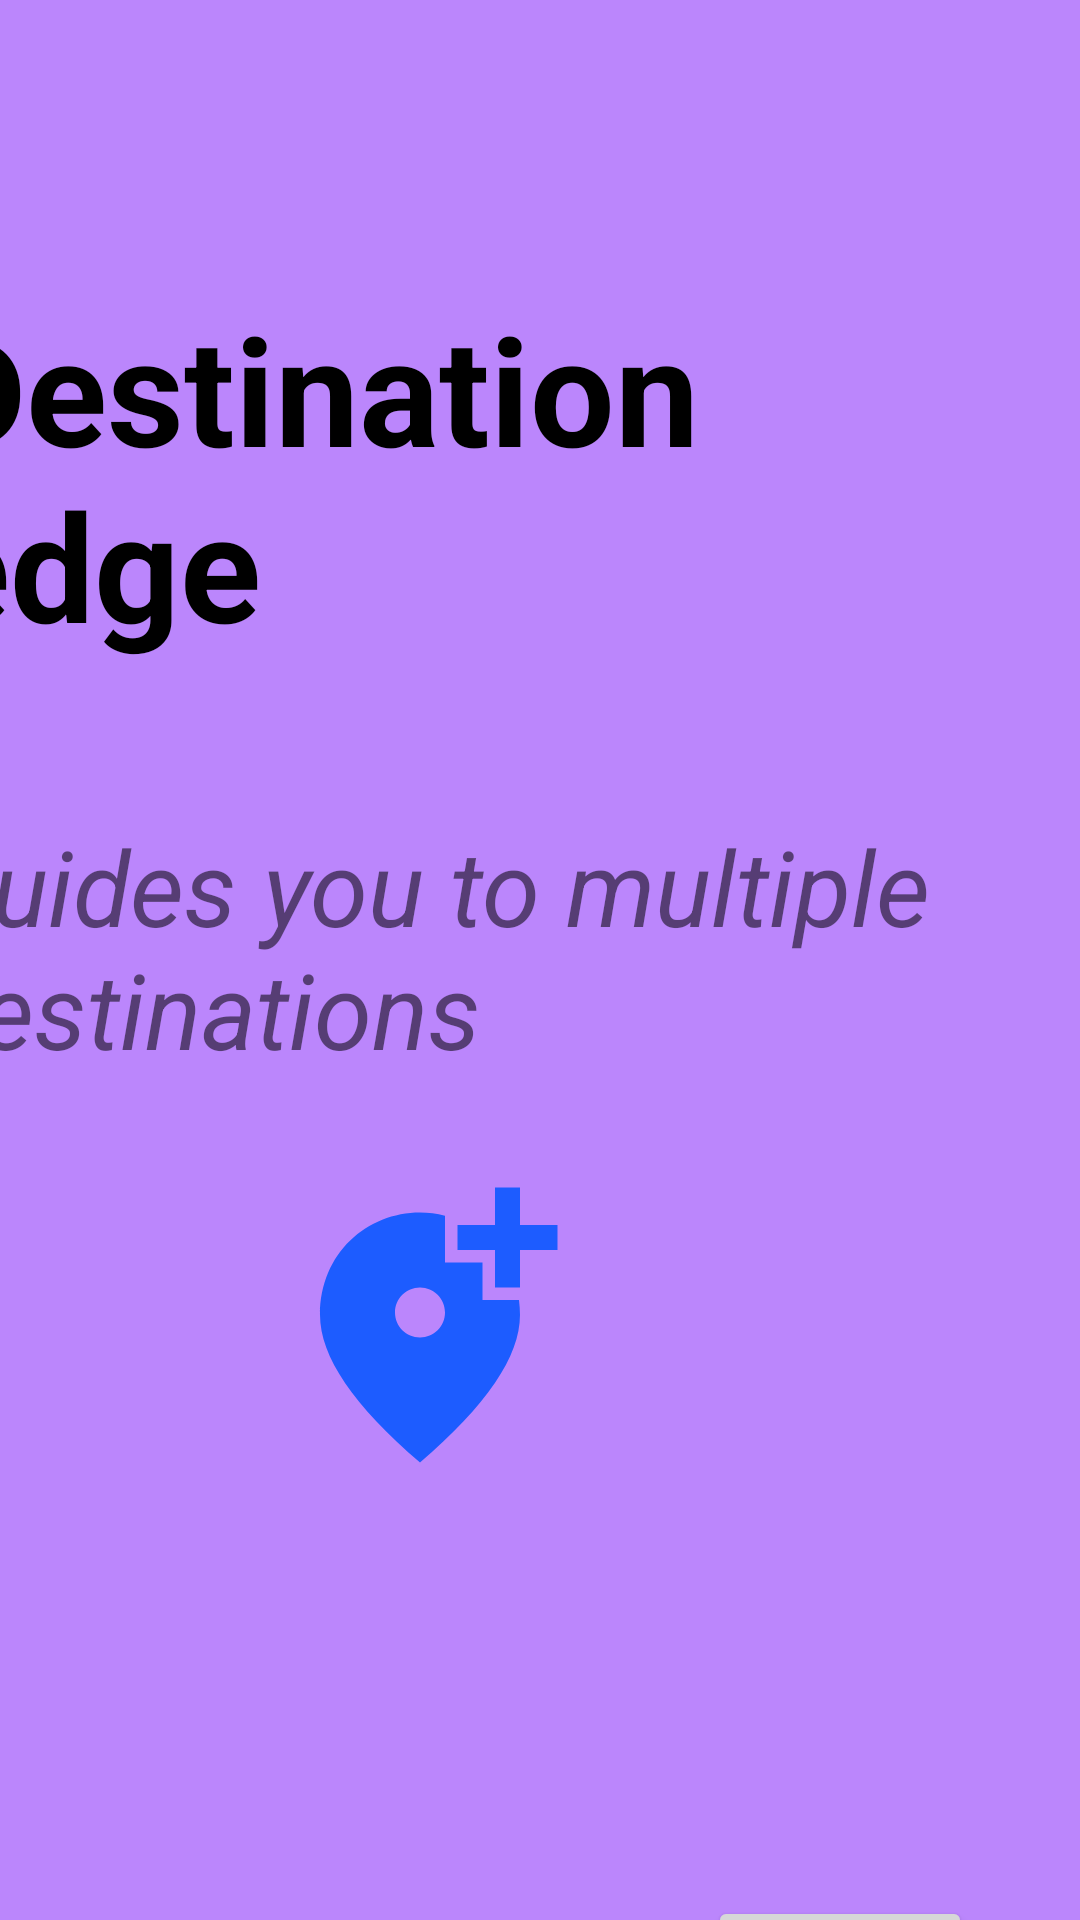

Icon click points for this 1080×1920 phone screenshot, format (x,y):
add location: (439,1324)
